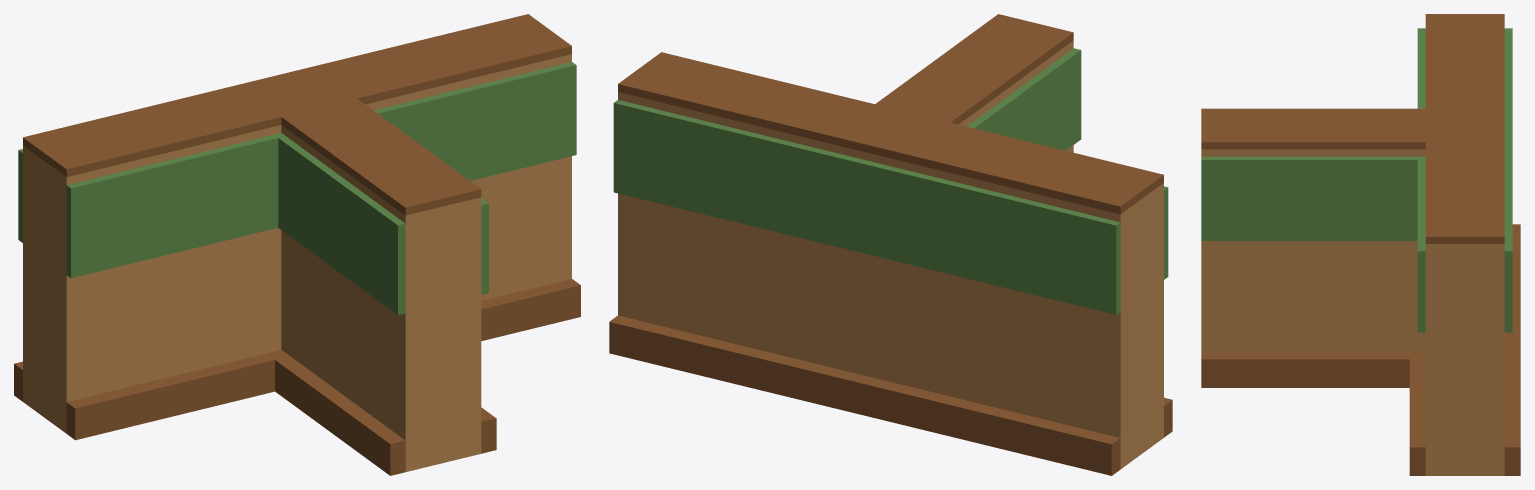
File: partition-tee.glb
The picture shows the model from 3 angles, left to right: view 1: azimuth 30°, elevation 25°; view 2: azimuth 150°, elevation 25°; view 3: azimuth 270°, elevation 25°; orthographic projection. The views are drawn at different scales.
Parts seen in each view (by area): view 1: partition-tee; view 2: partition-tee; view 3: partition-tee.
Boxes of the visible parts, x1,y1,x2,y2 form: partition-tee: (14,14,580,475); partition-tee: (609,14,1172,475); partition-tee: (1201,14,1520,475).
Size of the model in its own units: 1 by 0.5 by 0.605.
Materials: 1 (1 with a texture image).
